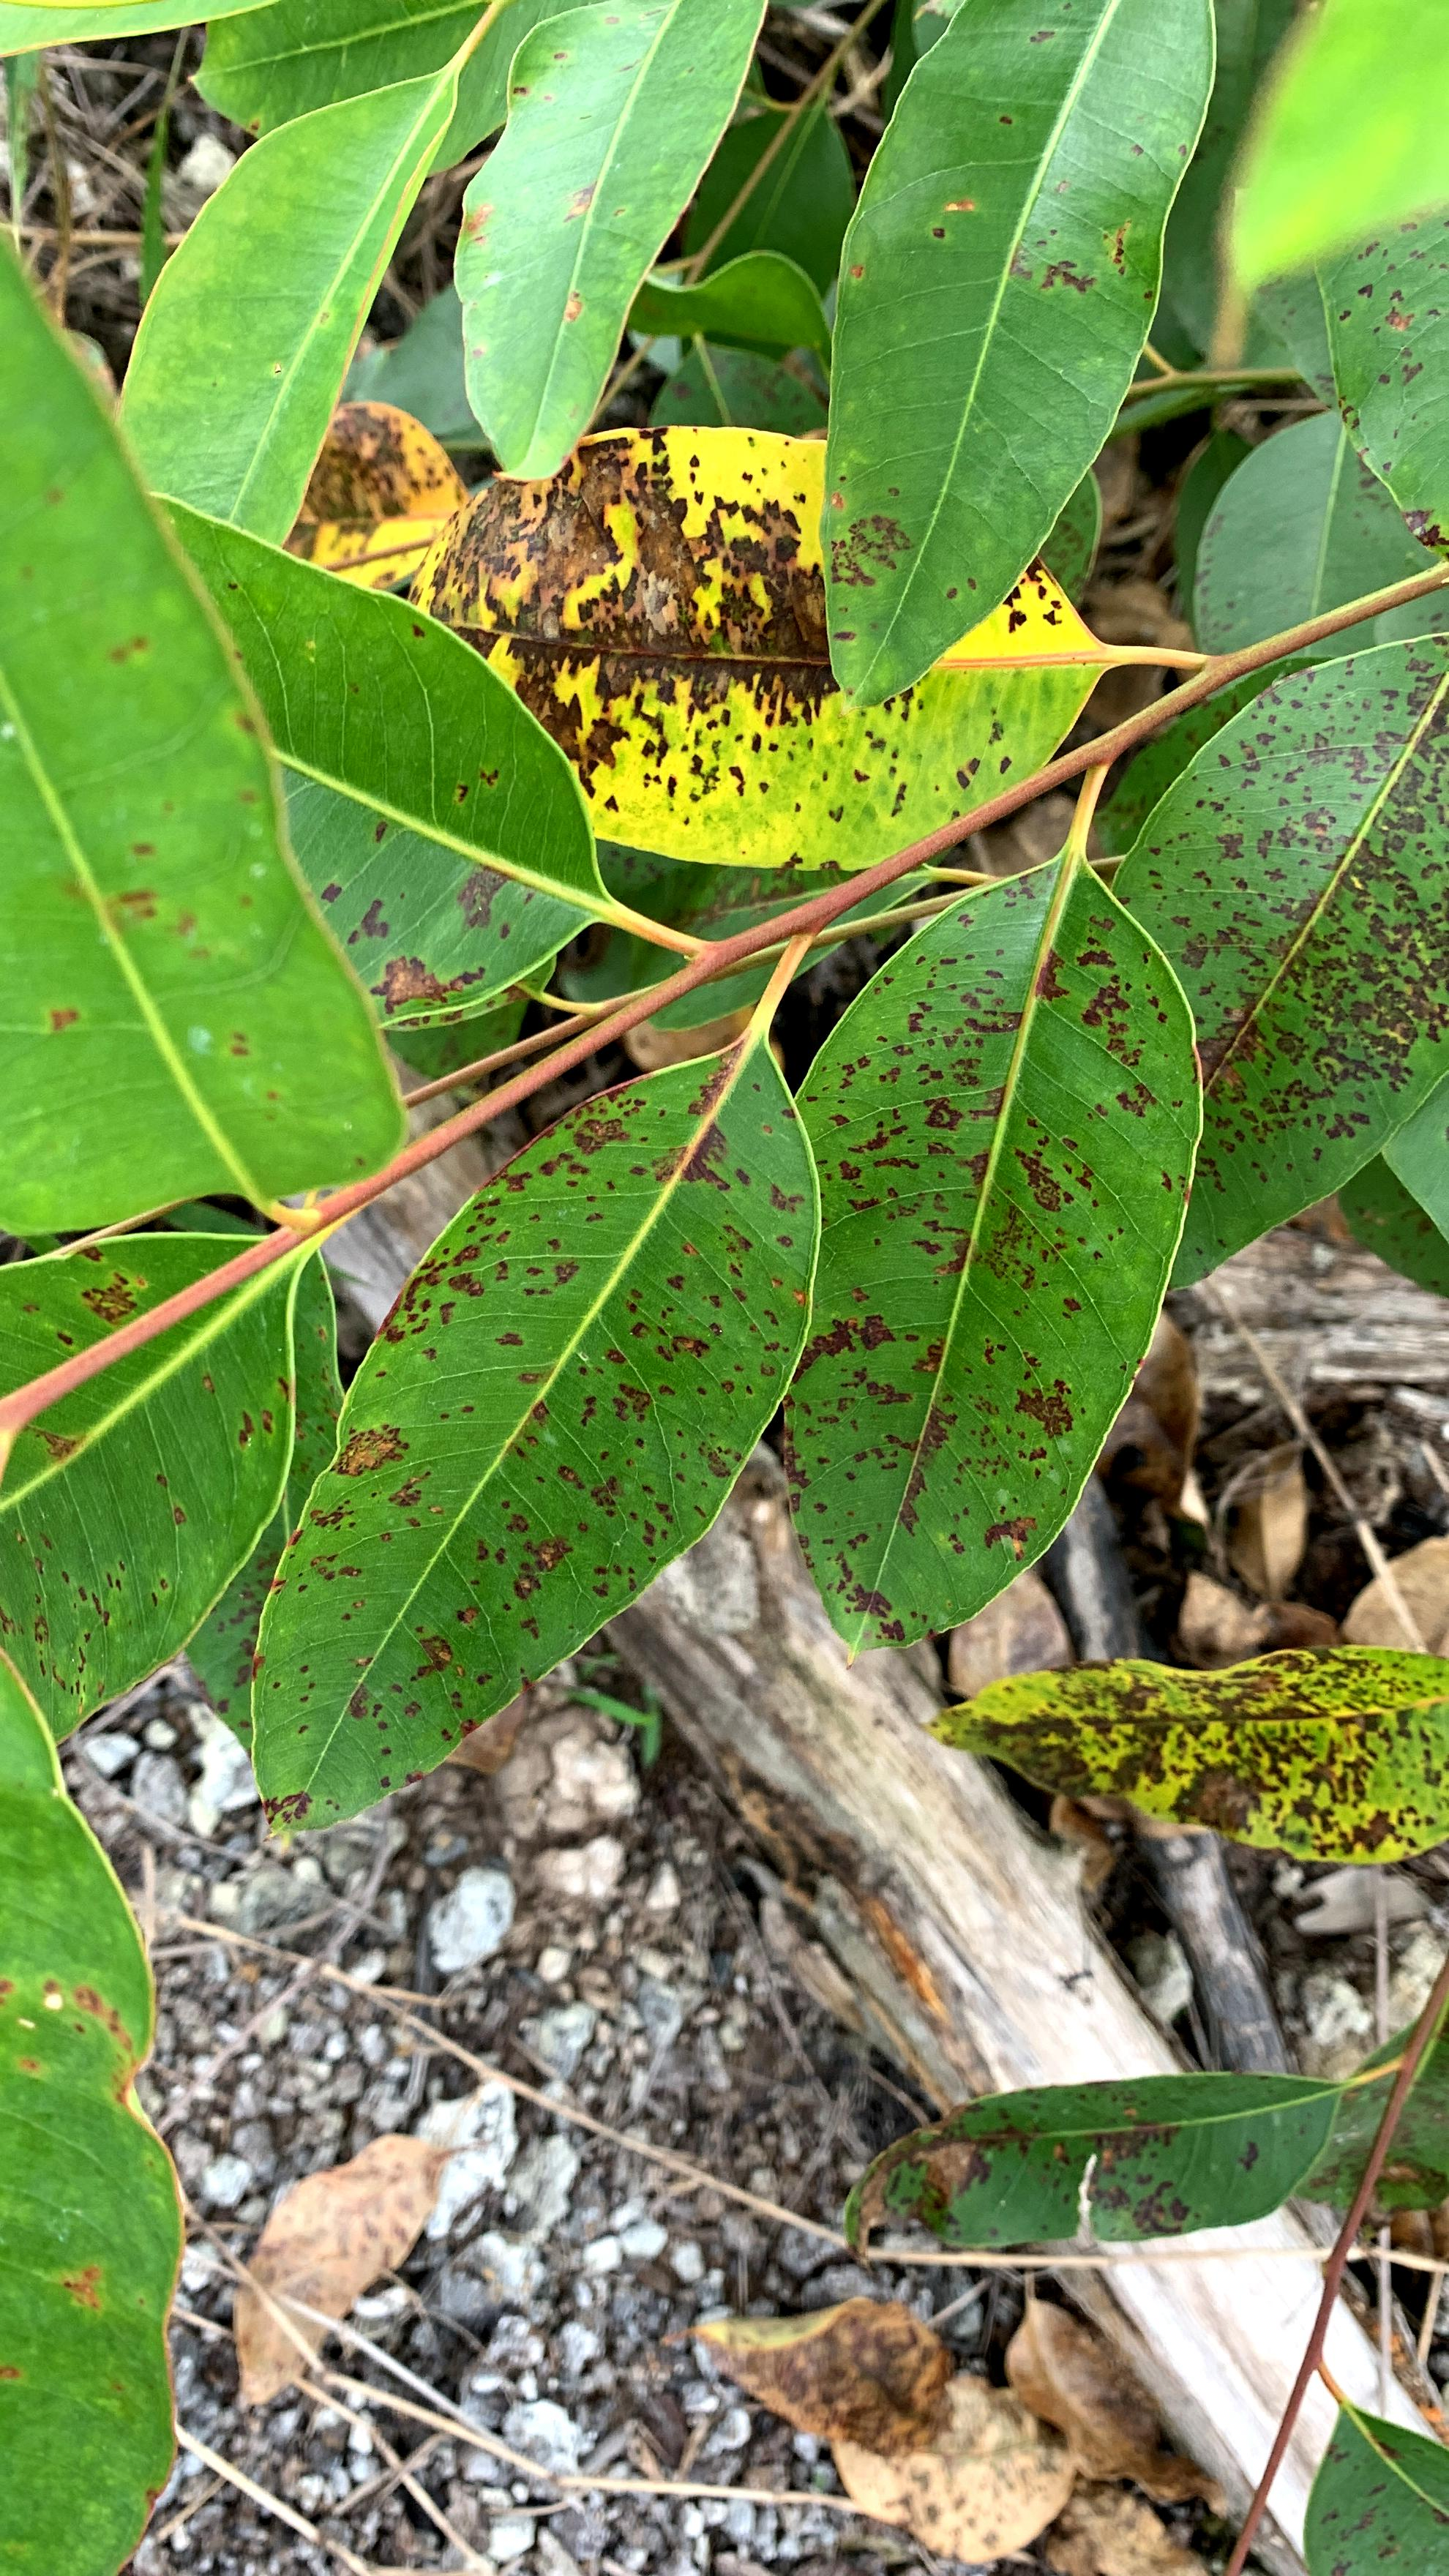Xanthomonas: (228, 1001, 826, 1882), (761, 863, 1205, 1667), (414, 412, 872, 816), (1187, 633, 1449, 1242), (823, 2043, 1329, 2323), (925, 1638, 1449, 1875)
